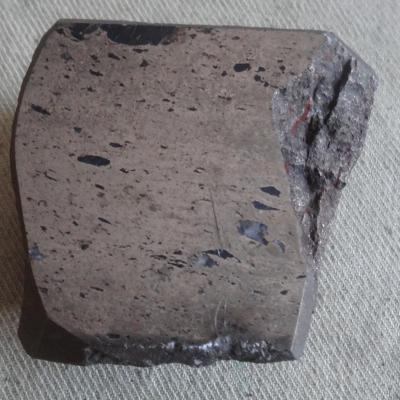mineralogy: (12, 19, 377, 366)
